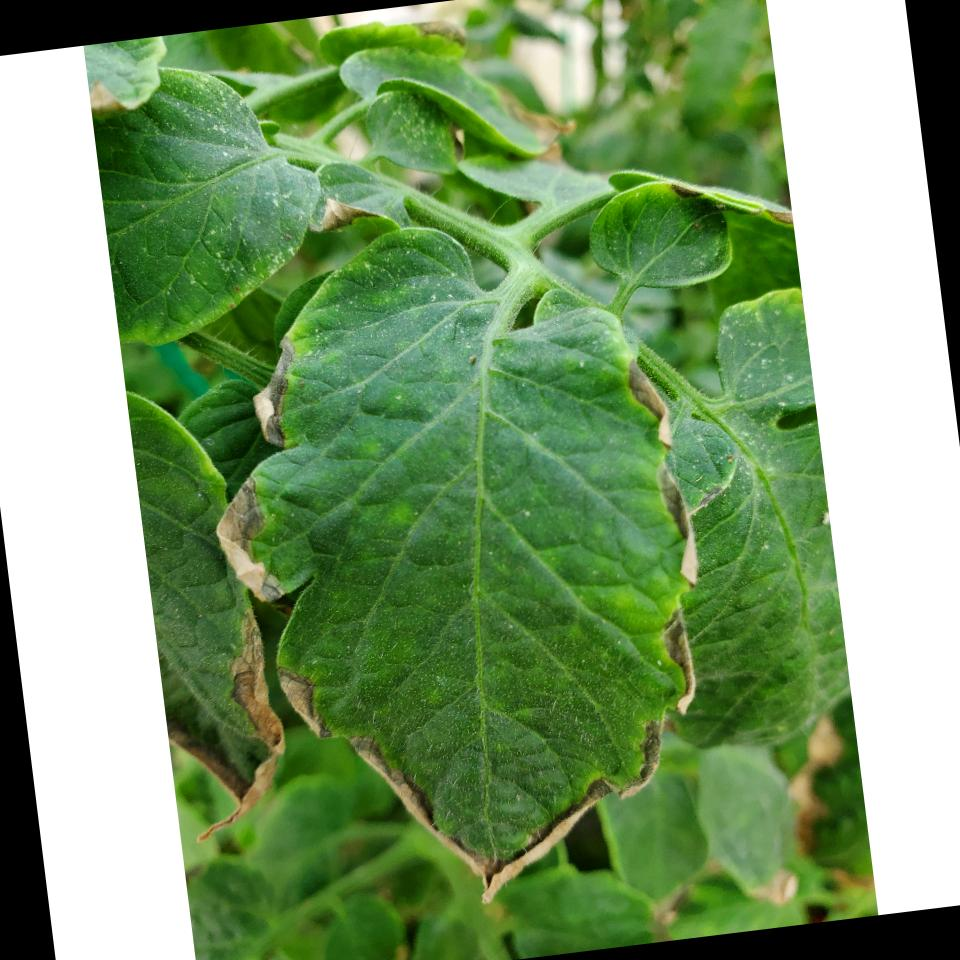tomato_bacterial_blight: (182, 250, 728, 930)
